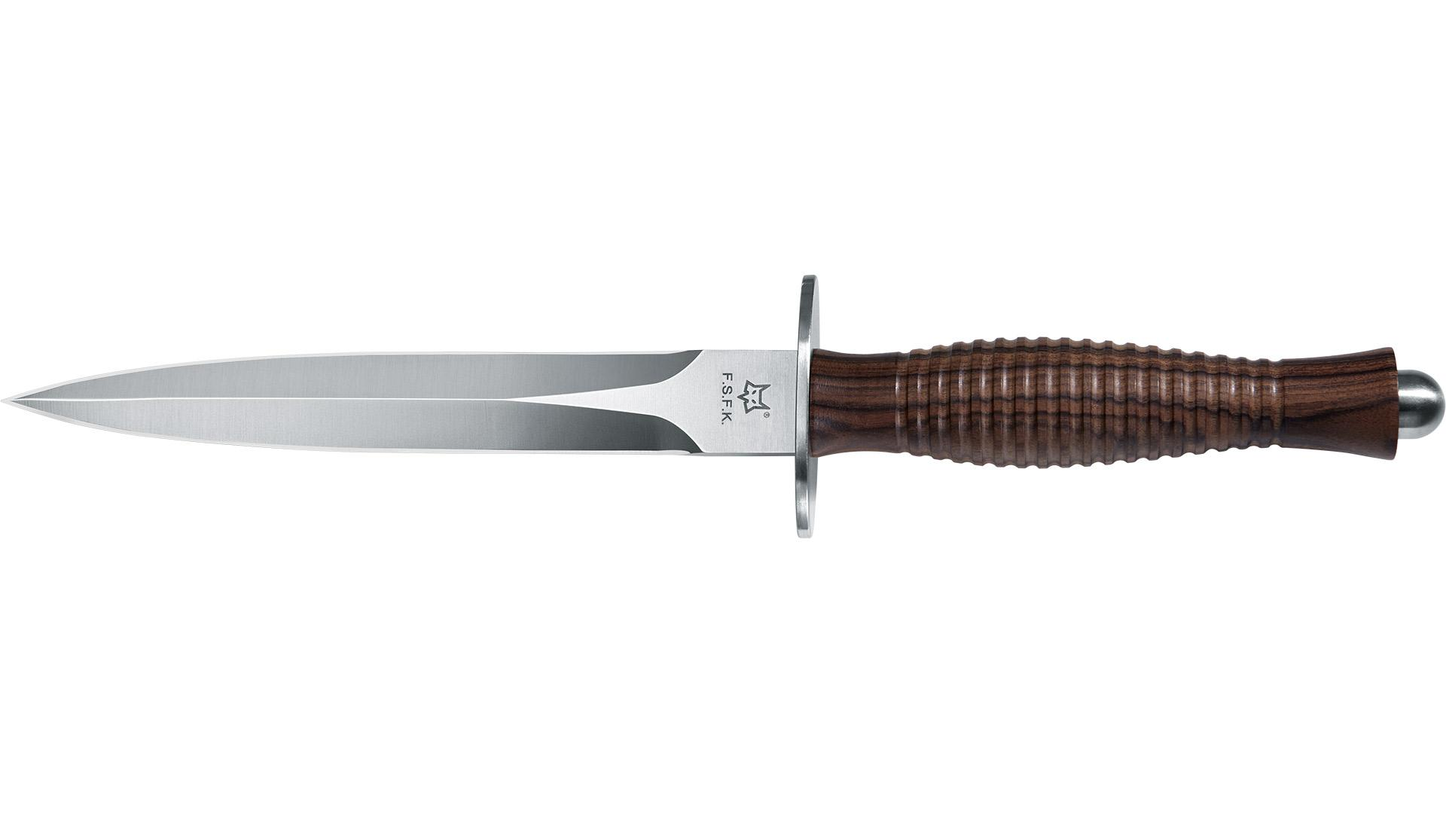Knife: (0, 273, 1446, 538)
